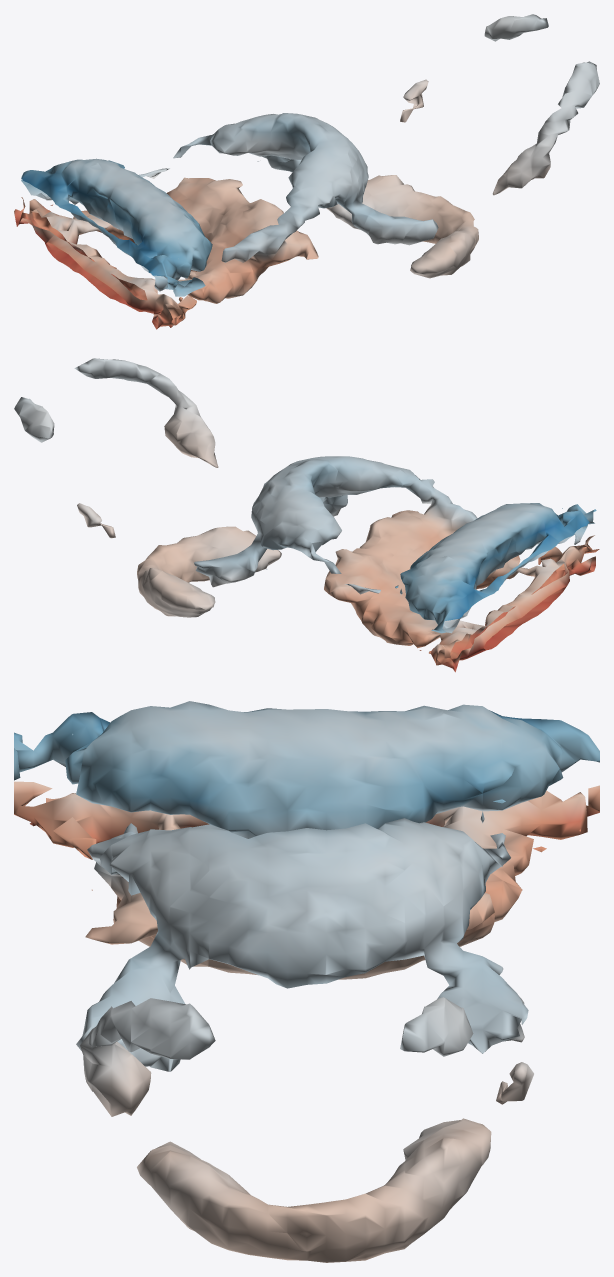
3 renders of one model, top to bottom at view 1: azimuth 30°, elevation 25°; view 2: azimuth 150°, elevation 25°; view 3: azimuth 270°, elevation 25°, orthographic. The views are drawn at different scales.
Size of the model in its own units: 4.58 by 1.65 by 2.5.
